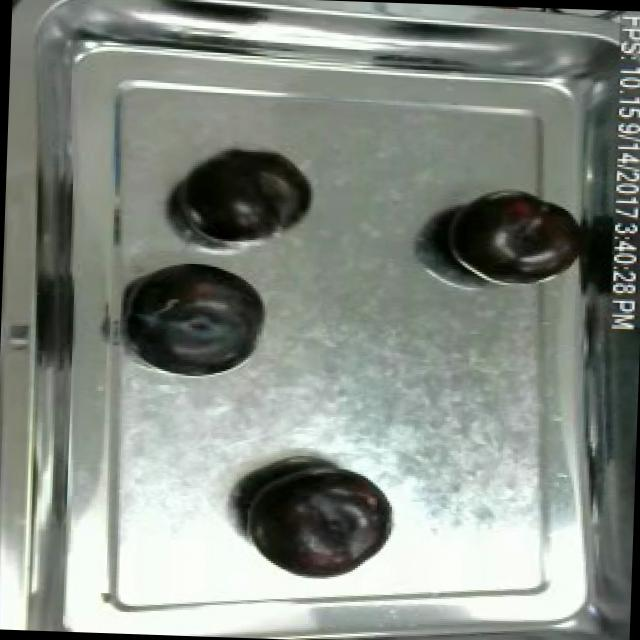Fruit: (234, 459, 397, 586), (120, 257, 268, 378), (433, 184, 582, 289), (179, 145, 316, 248)
